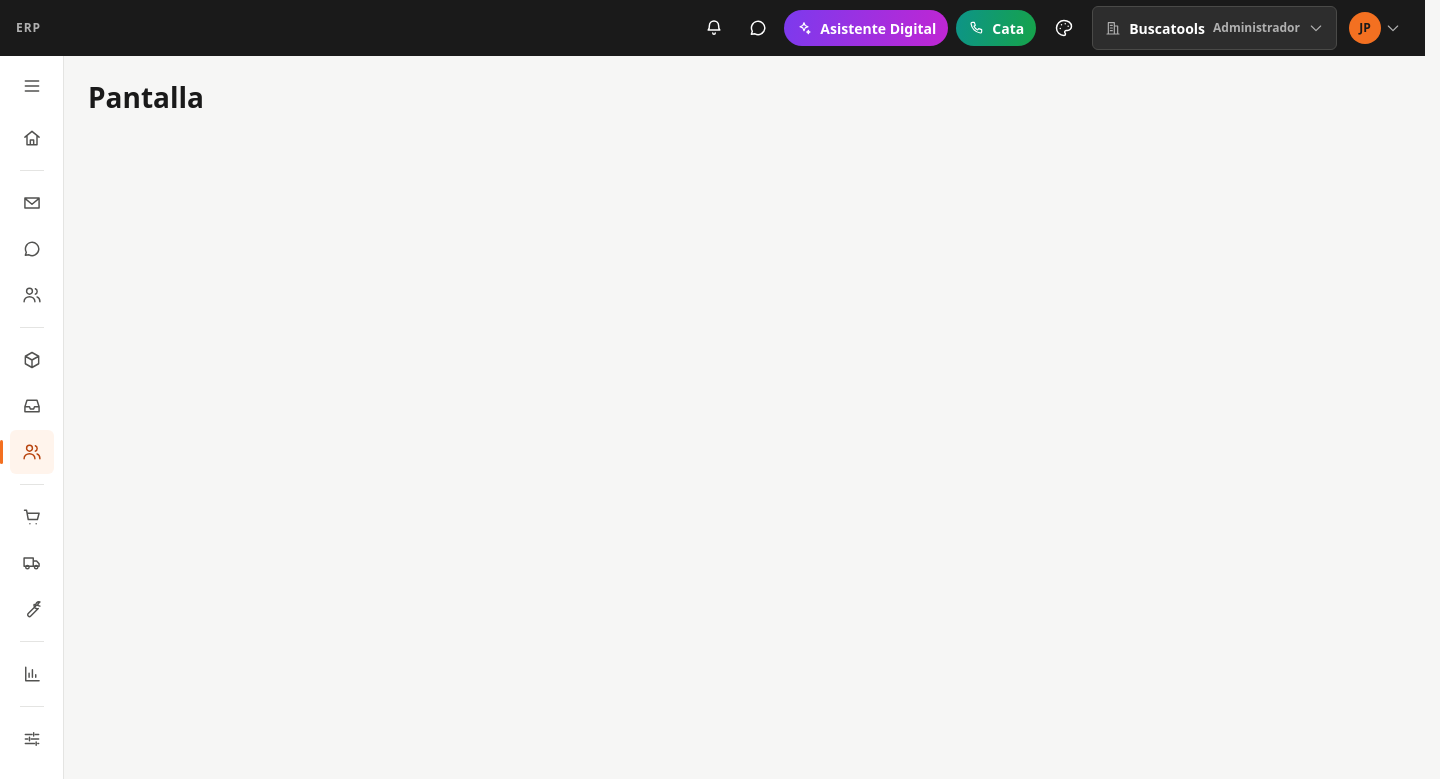
Test: tablet 768–1023: barra compacta › íconos con nombre accesible; un módulo abre el panel completo con ese módulo desplegado
Click the button named "Compras". click: (32, 563)
box: [10,541,54,585]
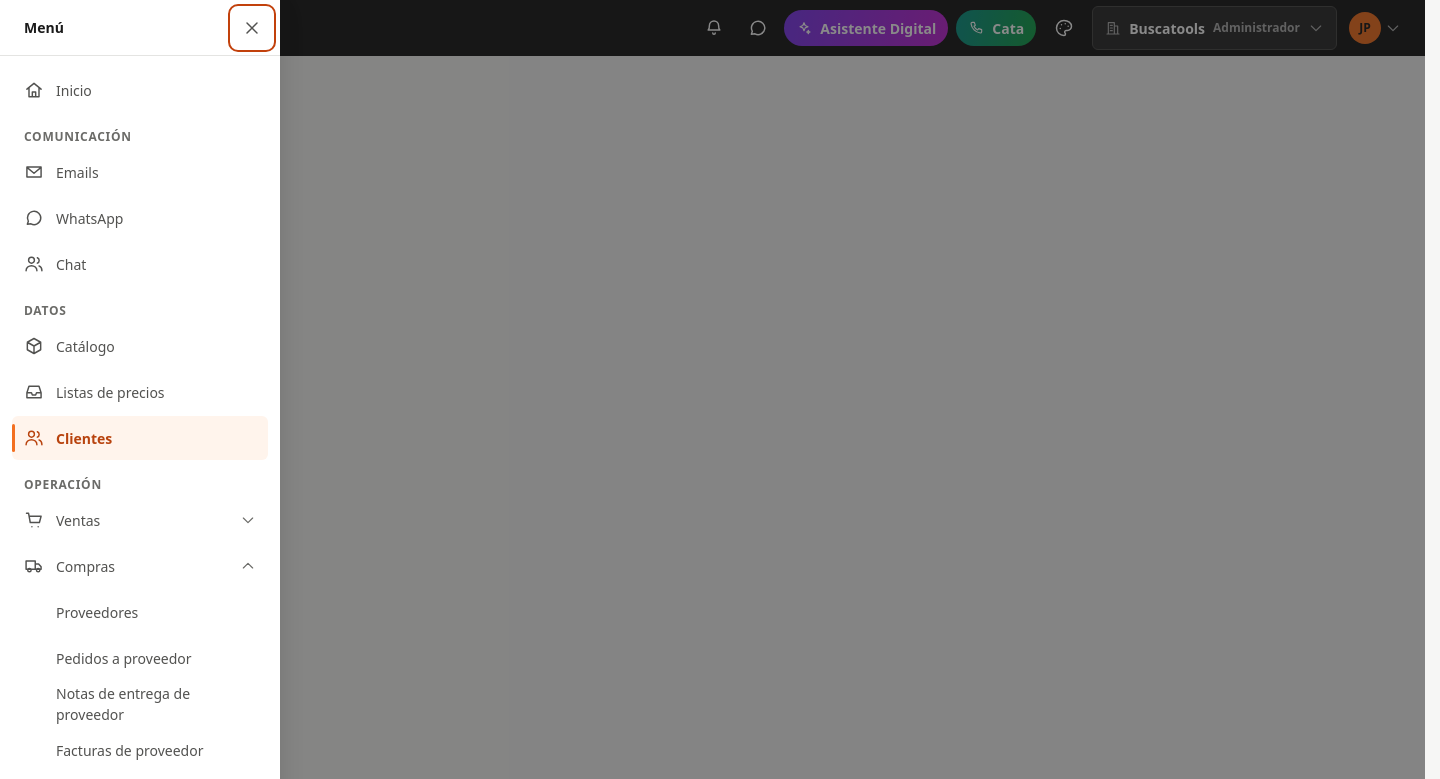
Now the link "Proveedores" is shown, box [56,602,138,622]
